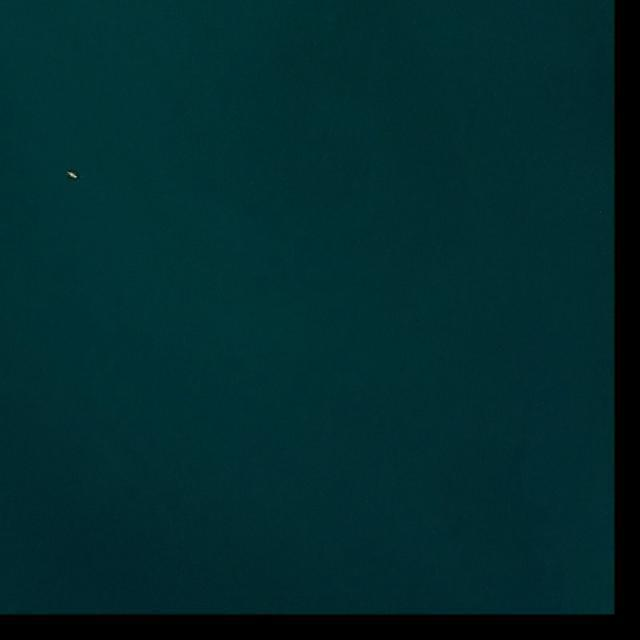ship: (66, 170, 78, 181)
